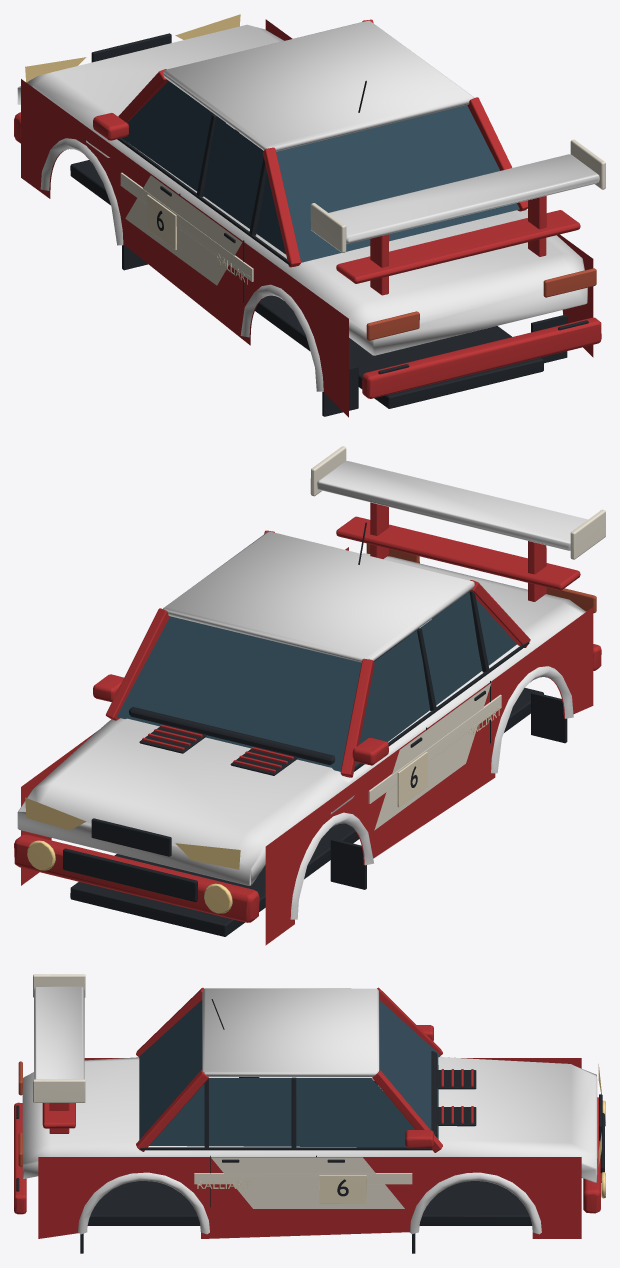
The model's file is EVO6-lod1.glb.
The picture shows the model from 3 angles, top to bottom: view 1: azimuth 30°, elevation 25°; view 2: azimuth 150°, elevation 25°; view 3: azimuth 270°, elevation 25°; orthographic projection. The views are drawn at different scales.
Visible parts, largest first — view 1: Outline_Body, paint, glass, ink, accent, BrakeLamp, lamp, ivory; view 2: Outline_Body, paint, glass, ink, accent, lamp, ivory, BrakeLamp; view 3: Outline_Body, paint, glass, ink, accent, ivory.
Part boxes in pixels (x1,y1,x2,y2): Outline_Body: (17, 20, 599, 391); paint: (14, 19, 601, 417); glass: (122, 81, 519, 262); ink: (70, 33, 588, 416); accent: (120, 139, 605, 285); BrakeLamp: (366, 268, 596, 340); lamp: (25, 14, 240, 82); ivory: (147, 194, 249, 284); Outline_Body: (17, 461, 587, 919); paint: (14, 502, 601, 945); glass: (116, 592, 516, 771); ink: (63, 522, 567, 936); accent: (310, 446, 605, 830); lamp: (25, 797, 240, 913); ivory: (397, 705, 501, 807); BrakeLamp: (366, 543, 596, 613); Outline_Body: (22, 986, 597, 1234); paint: (14, 987, 600, 1238); glass: (139, 1000, 439, 1147); ink: (16, 999, 604, 1253); accent: (33, 974, 412, 1208); ivory: (197, 1175, 366, 1203).
Size of the model in its own units: 2.04 by 1.72 by 4.48.
